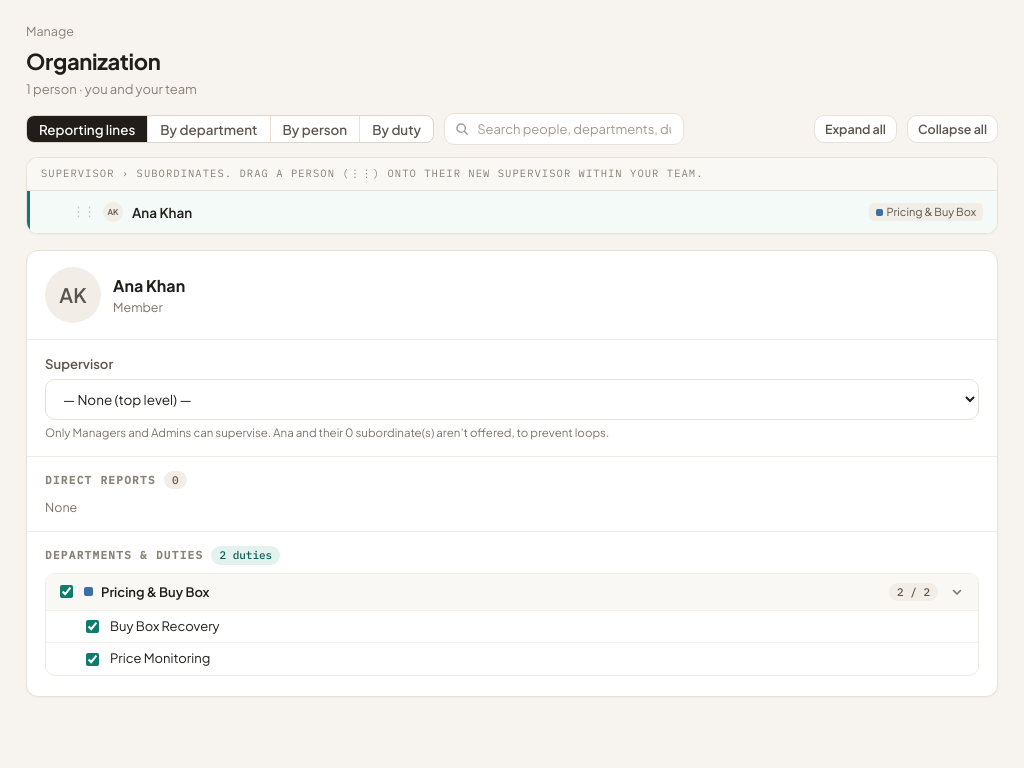
OrganizationPage — duties Alert Task Setup needs › tells a Manager an Admin has to change Alert Task Setup
Click the checkbox labelled "Buy Box Recovery".
click(92, 626)  # box [86,620,99,633]
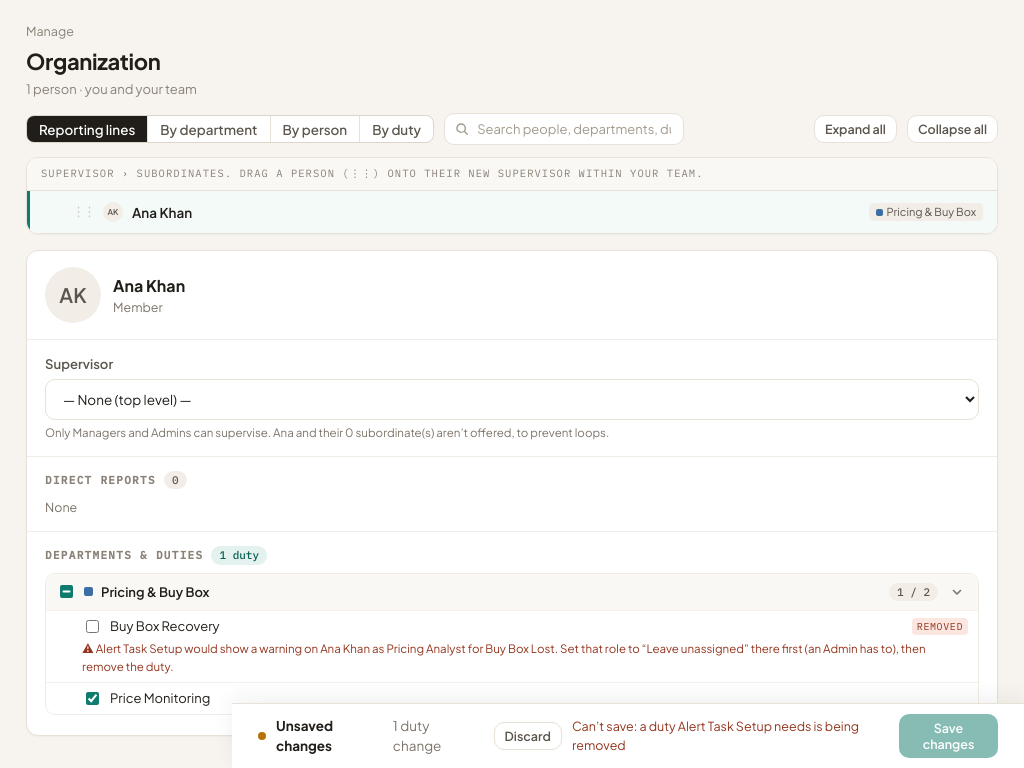
Check: the text "(an Admin has to)" is shown, box [803,641,896,656]
